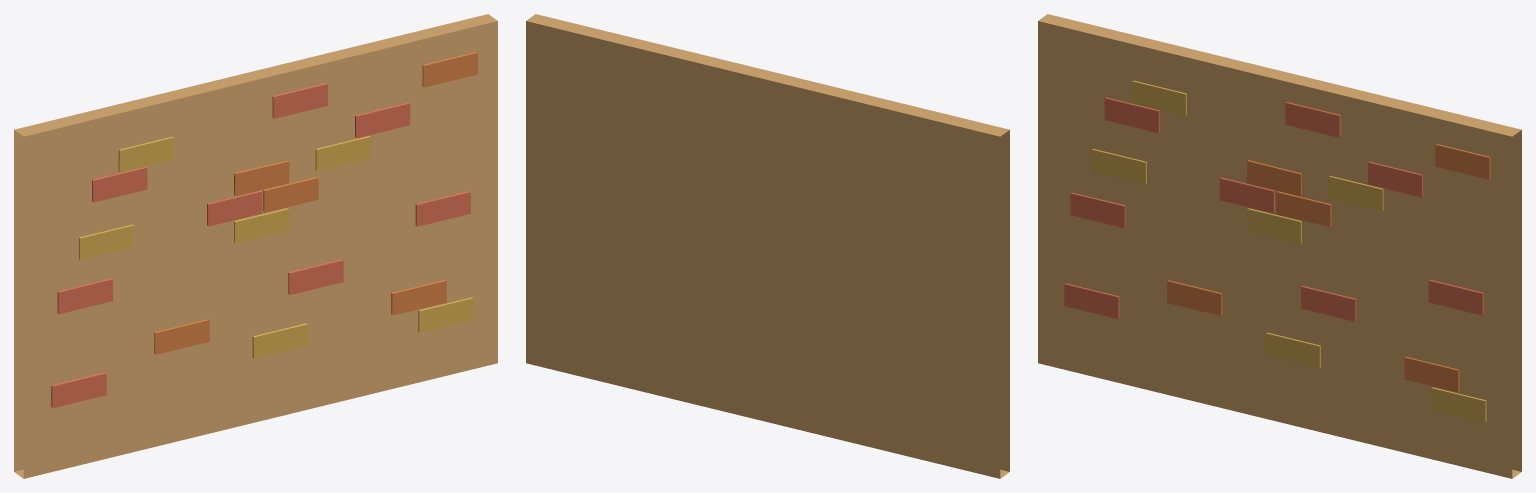
File: Wall.fbx
The picture shows the model from 3 angles, left to right: view 1: azimuth 30°, elevation 25°; view 2: azimuth 150°, elevation 25°; view 3: azimuth 330°, elevation 25°; orthographic projection.
Parts seen in each view (by area): view 1: Wall; view 2: Wall; view 3: Wall.
Part boxes in pixels (box(x1,y1,x2,y2)): Wall: box(14, 14, 497, 478); Wall: box(526, 14, 1009, 478); Wall: box(1038, 14, 1521, 478).
Size of the model in its own units: 5 by 3.45 by 0.2052.
